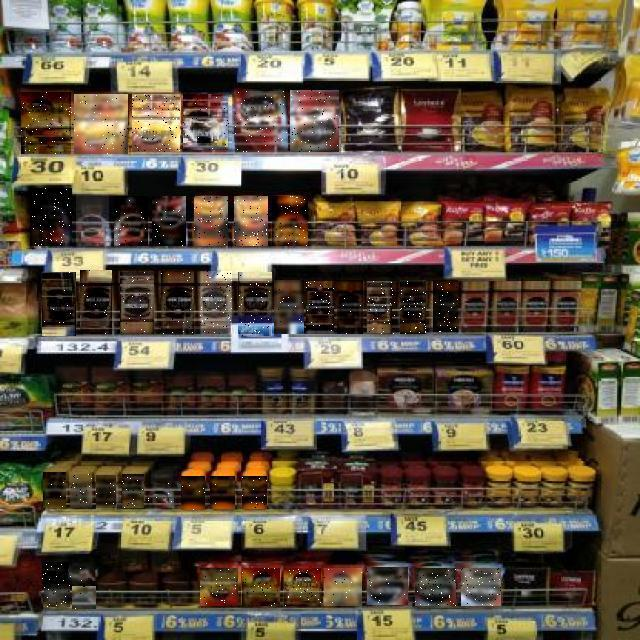Coffee: (74, 94, 128, 154), (235, 91, 288, 152), (22, 92, 74, 154), (290, 90, 339, 152), (132, 94, 180, 152), (184, 95, 232, 151), (30, 188, 72, 246), (42, 272, 76, 336), (239, 272, 273, 336), (121, 271, 155, 334), (161, 271, 194, 335), (80, 271, 112, 335), (200, 271, 232, 334), (272, 196, 308, 246), (76, 194, 109, 246), (194, 196, 228, 246), (114, 196, 148, 246), (234, 196, 268, 246), (152, 196, 186, 246), (274, 280, 304, 334), (367, 567, 408, 605), (415, 569, 456, 607), (461, 569, 501, 607), (368, 281, 396, 334), (306, 282, 334, 334), (242, 568, 280, 606), (324, 568, 362, 606), (200, 569, 238, 607), (284, 568, 321, 606), (337, 280, 363, 334), (400, 281, 426, 335), (433, 280, 458, 332), (148, 476, 175, 510), (43, 472, 66, 508), (242, 476, 267, 509), (210, 476, 235, 509), (181, 476, 205, 510), (122, 474, 144, 508), (70, 474, 92, 508), (96, 476, 116, 510), (45, 584, 71, 607), (43, 562, 69, 584), (73, 586, 97, 609), (70, 566, 94, 586)
